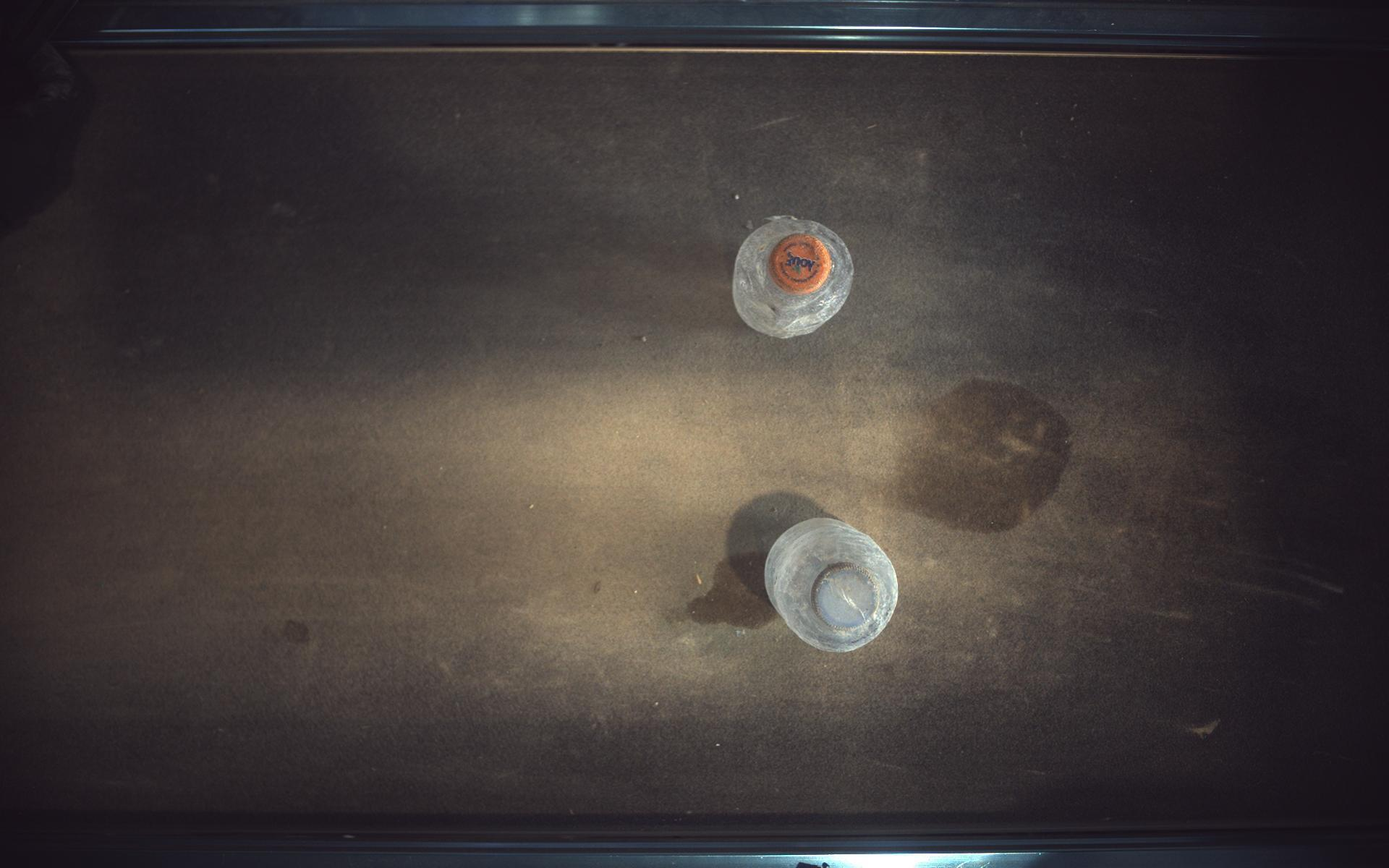general_w: (765, 519, 900, 653), (734, 216, 855, 338)
